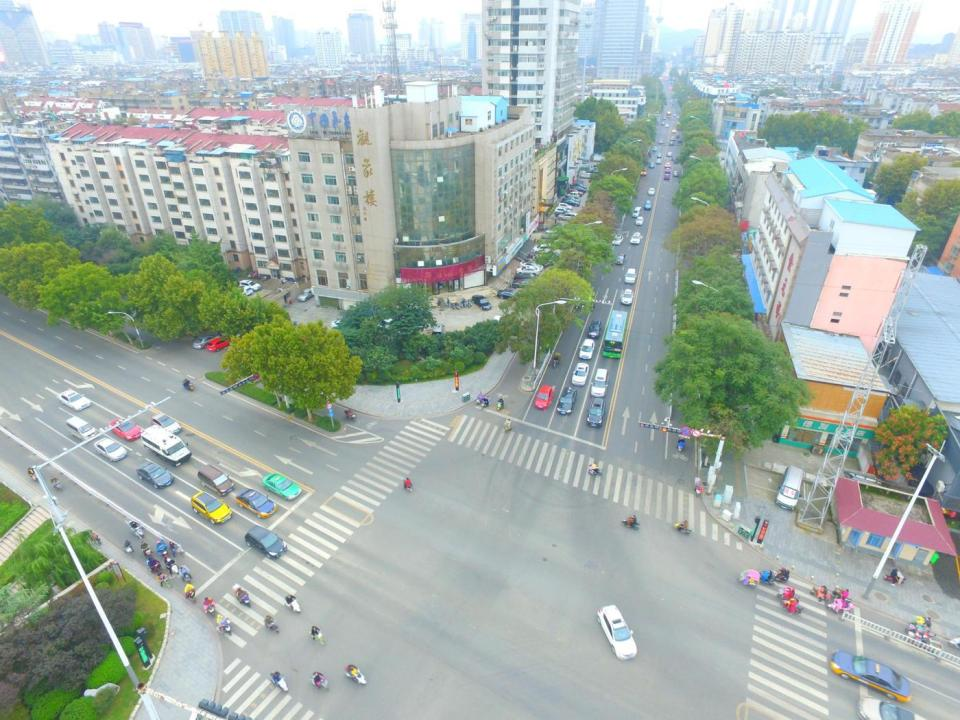bus: (601, 308, 627, 360), (664, 110, 672, 118), (676, 121, 682, 130)
car: (828, 646, 914, 703), (595, 602, 638, 660), (244, 524, 288, 561), (190, 490, 234, 525), (235, 488, 278, 519), (263, 472, 303, 502), (135, 460, 174, 488), (56, 387, 91, 411), (93, 437, 128, 461), (151, 410, 182, 436), (110, 417, 143, 441), (532, 382, 554, 412), (586, 396, 606, 426), (555, 387, 576, 415), (372, 316, 402, 334), (190, 333, 221, 349), (570, 362, 588, 387), (207, 335, 230, 353), (472, 293, 492, 312), (497, 289, 526, 301), (296, 284, 315, 302), (331, 318, 357, 331), (618, 288, 636, 306), (577, 294, 595, 312), (532, 242, 556, 255), (234, 283, 256, 297), (432, 321, 446, 343), (580, 338, 593, 361), (238, 278, 260, 291), (518, 261, 544, 272), (587, 319, 602, 338), (624, 266, 638, 285), (512, 279, 538, 289), (513, 273, 540, 282), (516, 266, 540, 276), (558, 212, 580, 222), (555, 210, 576, 219), (628, 231, 641, 245), (558, 202, 574, 212), (600, 246, 612, 259), (563, 198, 580, 206), (563, 196, 580, 204), (570, 186, 587, 194), (616, 253, 627, 265), (555, 207, 571, 215), (566, 189, 584, 196), (612, 234, 623, 245), (633, 216, 644, 226), (646, 186, 655, 196), (639, 168, 649, 177), (572, 184, 587, 190), (586, 169, 600, 175), (644, 200, 652, 209), (663, 172, 670, 180), (655, 157, 662, 164), (673, 170, 679, 177), (664, 167, 670, 173), (657, 151, 662, 158), (668, 140, 674, 145), (664, 163, 670, 168), (670, 135, 675, 141), (671, 128, 677, 133), (667, 151, 672, 156), (657, 139, 662, 144), (650, 163, 654, 168), (678, 138, 682, 143), (653, 145, 656, 151), (662, 116, 666, 120), (676, 115, 680, 119), (665, 124, 669, 127), (661, 122, 664, 126), (673, 113, 676, 117), (670, 99, 673, 103), (665, 101, 668, 105), (669, 90, 672, 92)
van: (138, 426, 193, 467), (778, 465, 807, 511), (197, 465, 234, 496), (66, 415, 98, 443), (588, 366, 613, 398), (541, 230, 559, 239), (567, 191, 580, 199), (633, 206, 641, 218), (581, 173, 593, 178)
